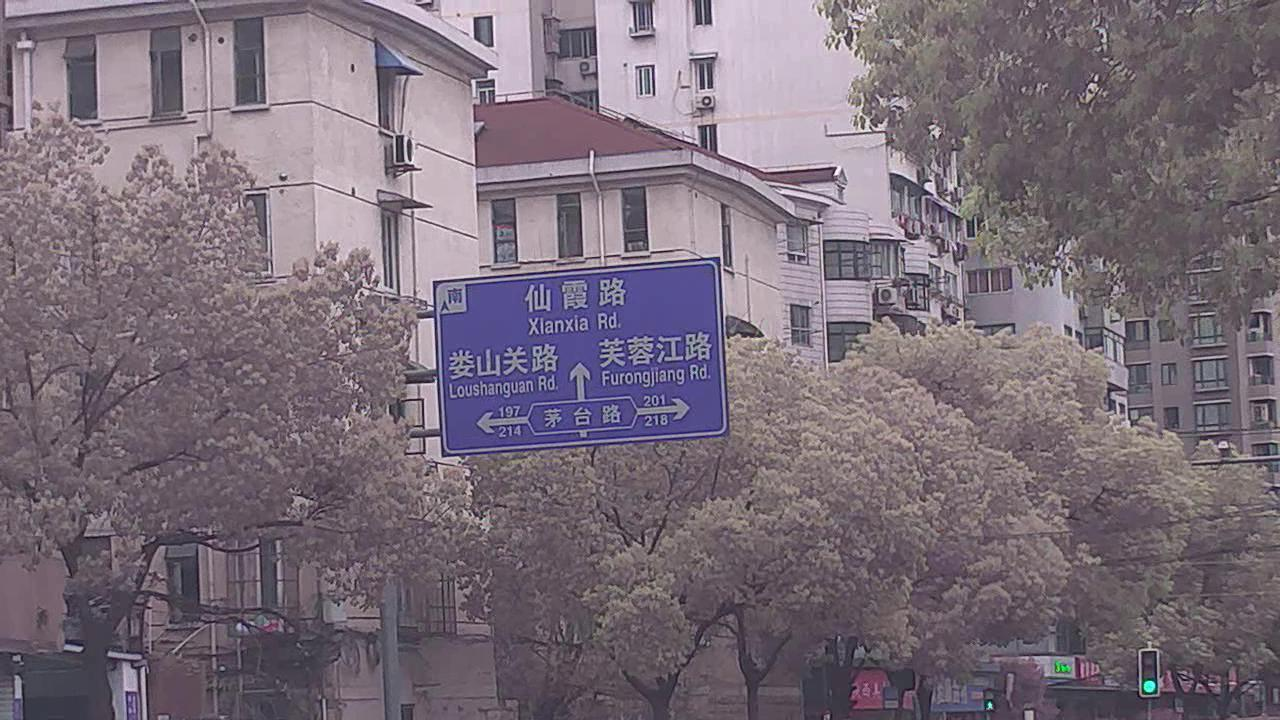traffic_light: (1138, 649, 1163, 698)
